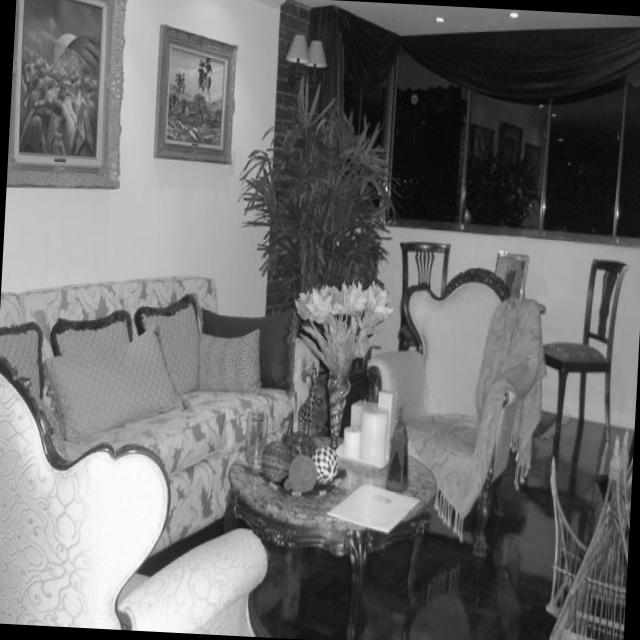2011: (382, 31, 640, 246)
art: (16, 0, 103, 159)
candle holder: (359, 406, 389, 466)
ceiling vent: (432, 13, 446, 24)
chair -occluded-: (542, 257, 630, 454)
flowers in pot: (295, 280, 395, 375)
giraffe: (293, 364, 318, 436)
lamp crop: (285, 34, 307, 89)
picture crop: (155, 29, 235, 163)
pillow occluded: (45, 322, 183, 442), (199, 330, 258, 391)
plant -x: (239, 83, 395, 296)
vase -X: (328, 375, 350, 449)
